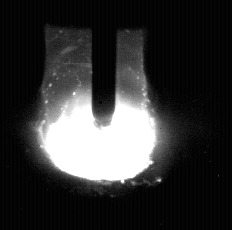arame: (93, 0, 116, 130)
poca: (38, 0, 158, 230)
